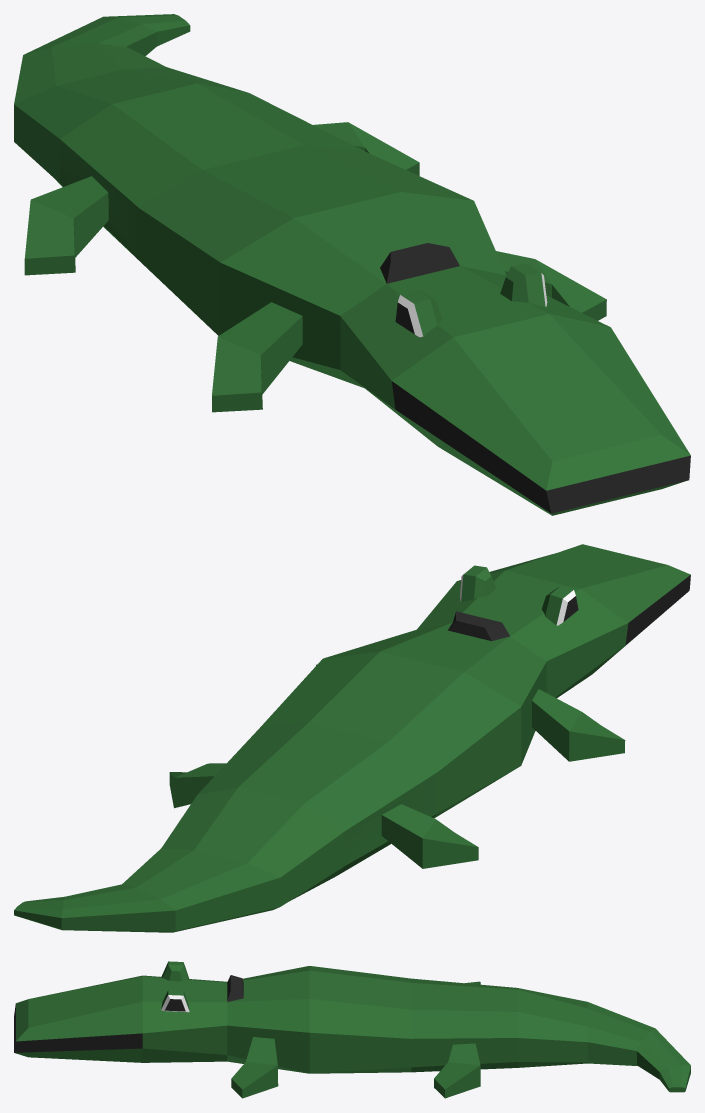
Rendered from beach_inflatable-crocodile.fbx.
3 renders of one model, top to bottom at view 1: azimuth 30°, elevation 25°; view 2: azimuth 150°, elevation 25°; view 3: azimuth 270°, elevation 25°, orthographic. The views are drawn at different scales.
Visible parts, largest first — view 1: beach_inflatable_crocodile; view 2: beach_inflatable_crocodile; view 3: beach_inflatable_crocodile.
Boxes of the visible parts, x1,y1,x2,y2 form: beach_inflatable_crocodile: (14,14,690,515); beach_inflatable_crocodile: (14,544,690,932); beach_inflatable_crocodile: (14,961,690,1098).
Size of the model in its own units: 72.93 by 22.48 by 200.
